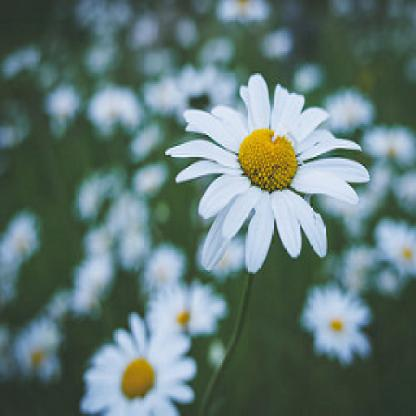ASTER: (28, 32, 403, 415)
